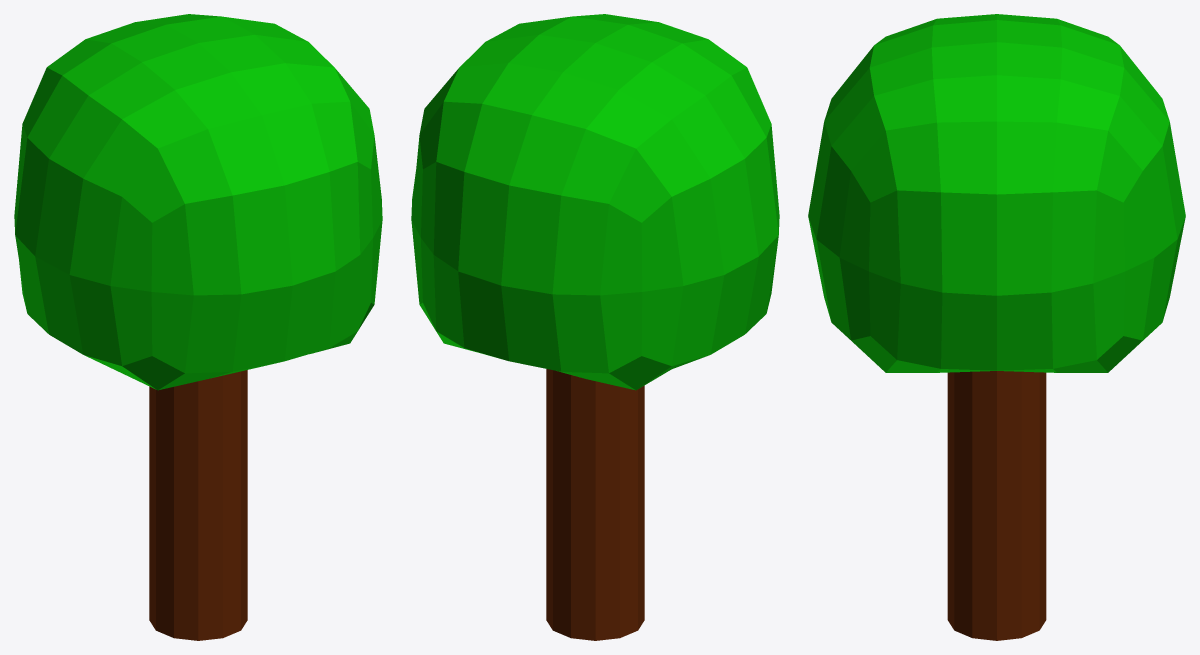
The model's file is pohon.fbx.
The picture shows the model from 3 angles, left to right: view 1: azimuth 30°, elevation 25°; view 2: azimuth 150°, elevation 25°; view 3: azimuth 270°, elevation 25°; orthographic projection.
Parts seen in each view (by area): view 1: fix.004; view 2: fix.004; view 3: fix.004.
Boxes of the visible parts, x1,y1,x2,y2 form: fix.004: (14, 14, 382, 640); fix.004: (411, 14, 779, 640); fix.004: (808, 14, 1185, 640).
Size of the model in its own units: 383 by 383 by 647.
